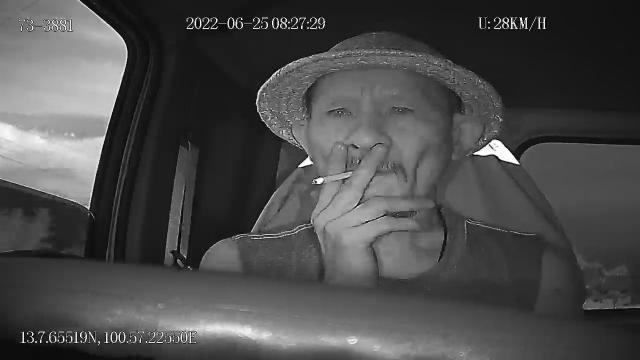SafeDriving: (379, 96, 419, 120), (322, 99, 358, 122)
Smoking: (312, 170, 354, 186)
